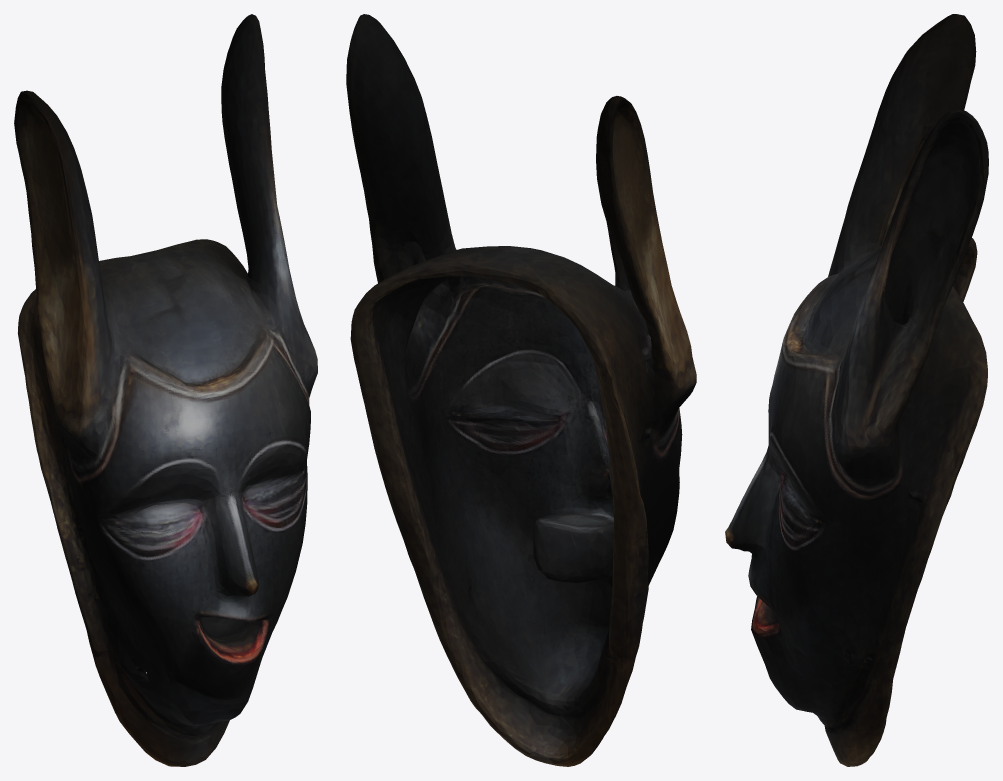
The model's file is oreille.glb.
The picture shows the model from 3 angles, left to right: view 1: azimuth 30°, elevation 25°; view 2: azimuth 150°, elevation 25°; view 3: azimuth 270°, elevation 25°; orthographic projection. The views are drawn at different scales.
Visible parts, largest first — view 1: world; view 2: world; view 3: world.
Boxes of the visible parts, left/top/right/bottom form: world: left=14, top=14, right=317, bottom=766; world: left=346, top=14, right=696, bottom=766; world: left=725, top=14, right=988, bottom=766.
Bounding box in the file's own units: 0.3901 × 1 × 0.3362.
1 material, 1 textured.
